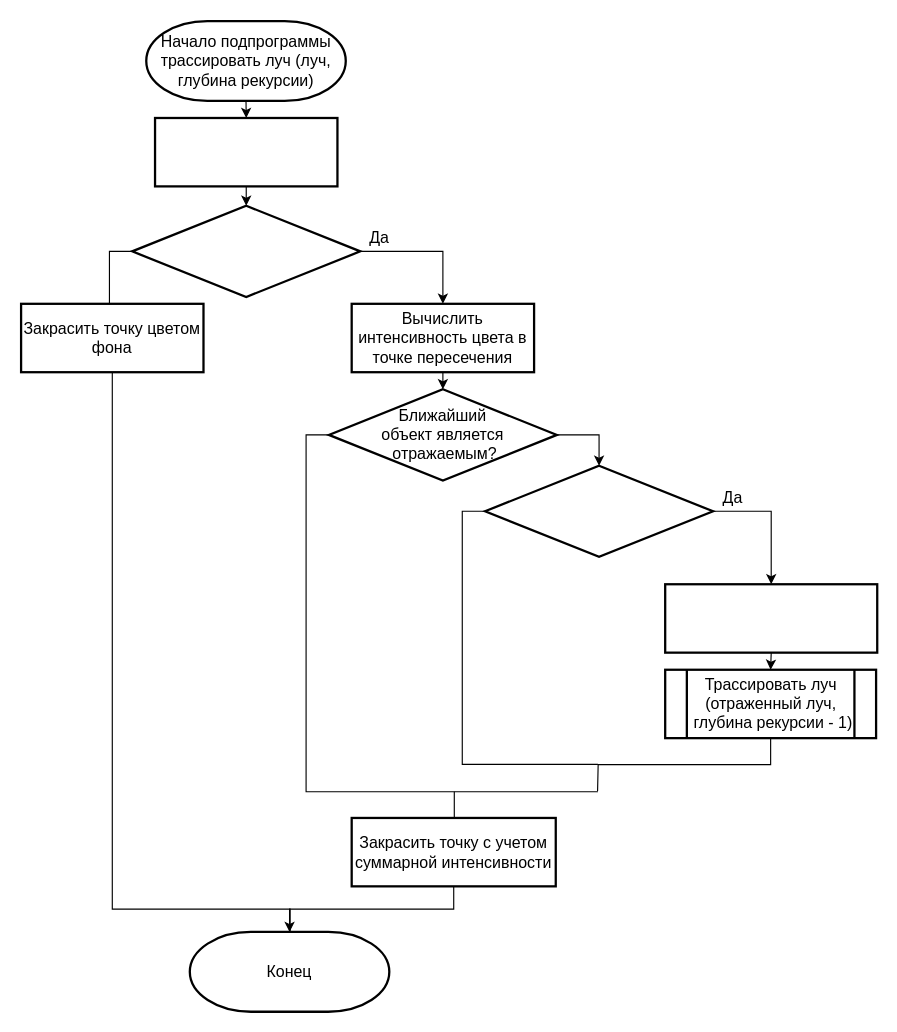
Some shapes in this 897 by 1032 pixel diagram are drawn without their labels. The centre of each missing label's shape, as x and y in pixels:
Вычислить отраженный луч: point (770, 618)
Глубина рекурсии равна 0?: point (598, 510)
Найти пересечение луча с ближайшим объектом сцены: point (245, 151)
Пересечение найдено?: point (246, 251)
